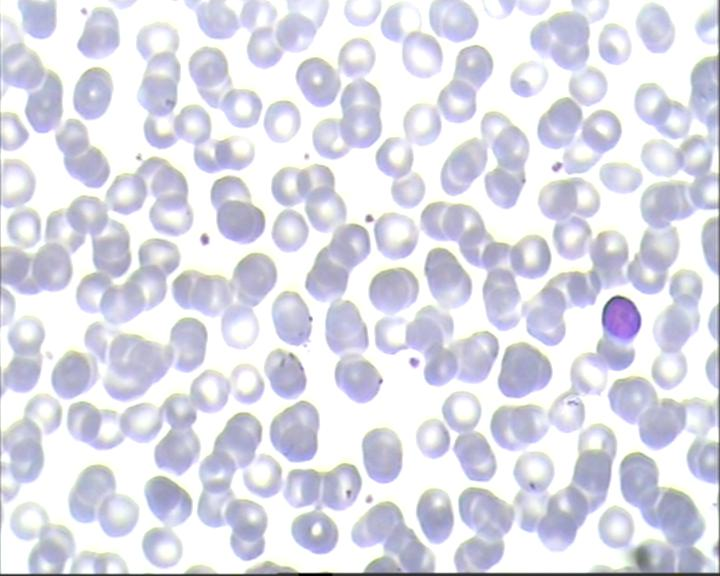lymp: (593, 292, 645, 342)
